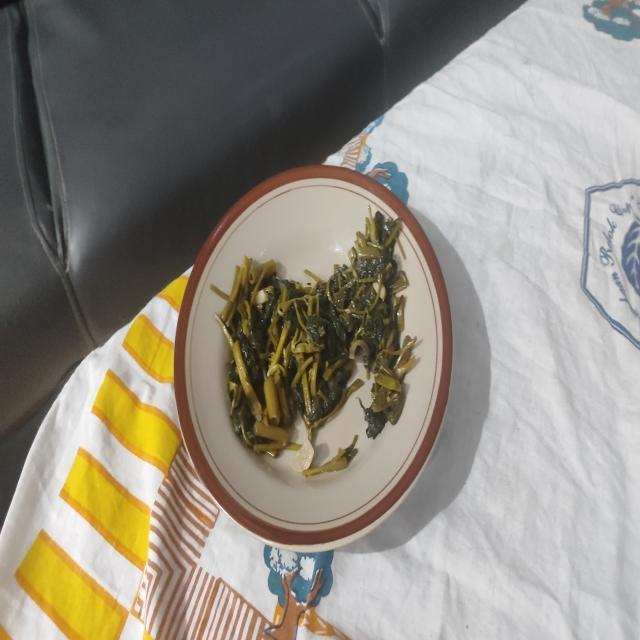tumis_kangkung: (216, 212, 417, 456)
